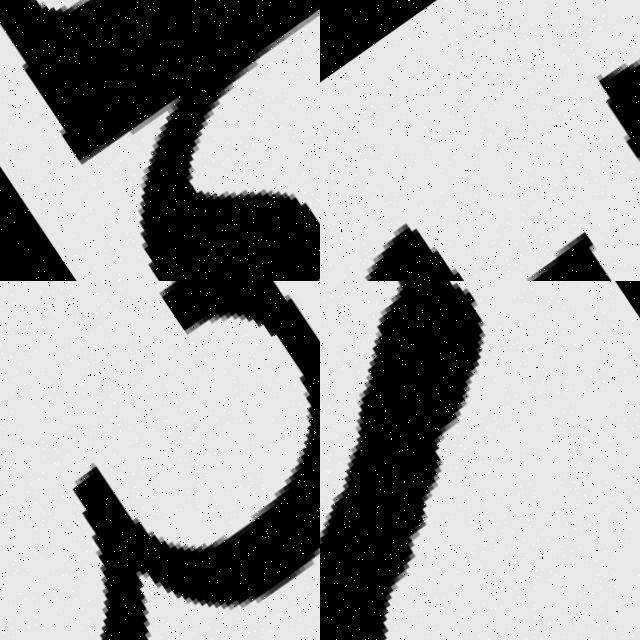3: (0, 281, 320, 640), (320, 0, 640, 281)
R: (320, 281, 640, 640), (0, 0, 320, 281)
